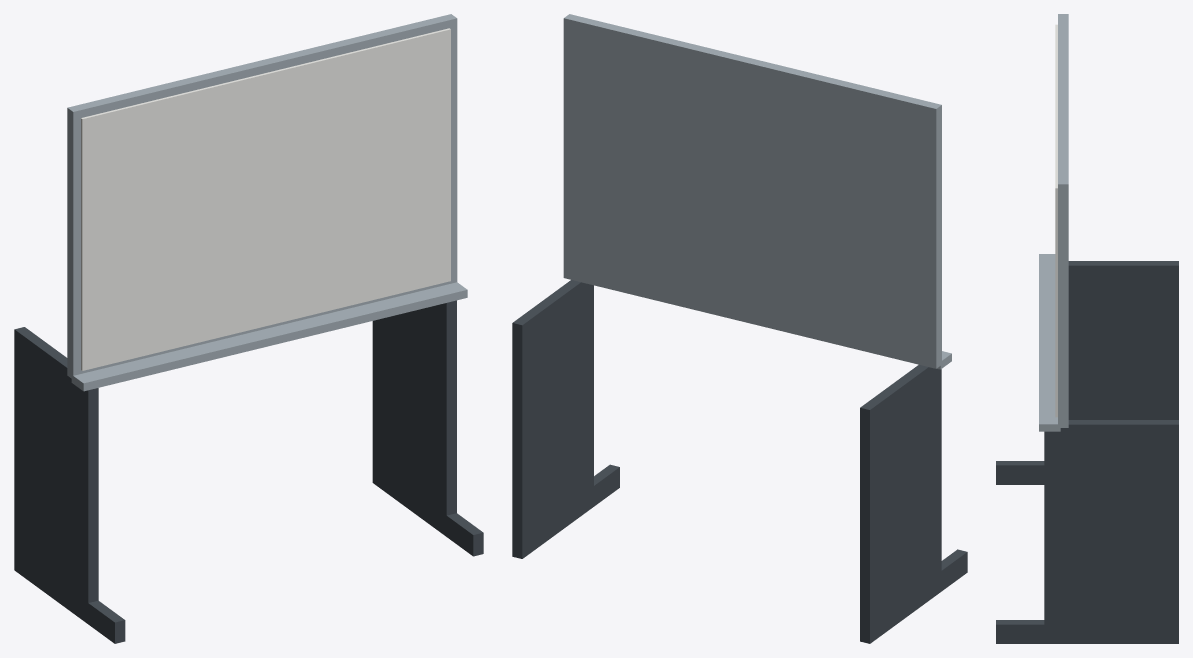
Rendered from GH_Whiteboard_01.glb.
3 views of the same model, side by side, from view 1: azimuth 30°, elevation 25°; view 2: azimuth 150°, elevation 25°; view 3: azimuth 270°, elevation 25° (orthographic). The views are drawn at different scales.
Visible parts, largest first — view 1: GH_Whiteboard_01; view 2: GH_Whiteboard_01; view 3: GH_Whiteboard_01.
Boxes of the visible parts, box(x1,y1,x2,y2) form: GH_Whiteboard_01: box(14, 14, 483, 643); GH_Whiteboard_01: box(512, 14, 967, 643); GH_Whiteboard_01: box(996, 14, 1178, 643).
Bounding box in the file's own units: 1.5 × 1.9 × 0.68.
Materials: 1 (1 with a texture image).
